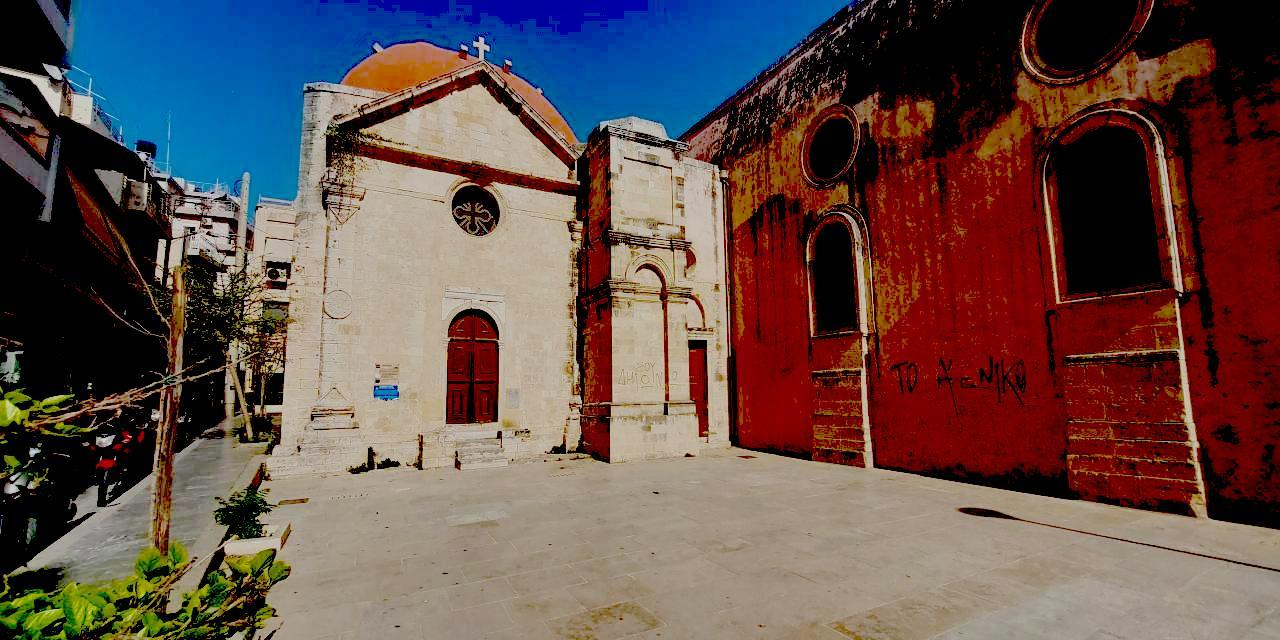Agia Aikaterini: (281, 1, 1280, 522)
